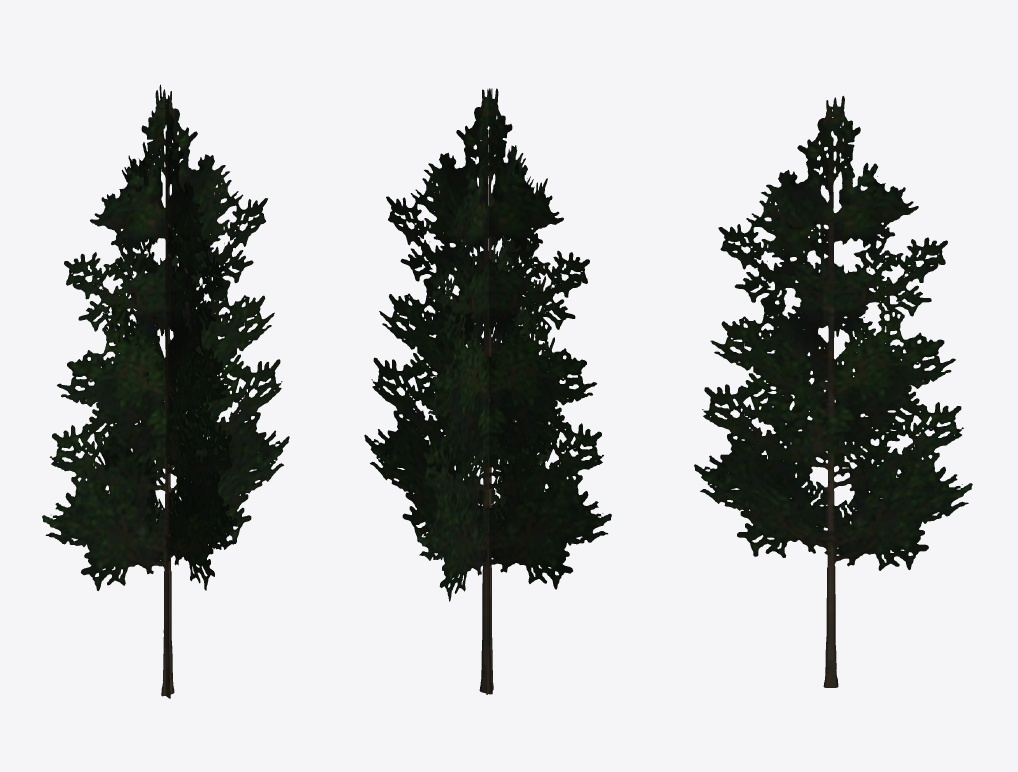
Rendered from ever_endr_babyredwood_a1_l2.fbx.
3 renders of one model, left to right at view 1: azimuth 30°, elevation 25°; view 2: azimuth 150°, elevation 25°; view 3: azimuth 270°, elevation 25°, orthographic. The views are drawn at different scales.
Parts seen in each view (by area): view 1: mesh_node; view 2: mesh_node; view 3: mesh_node.
Part boxes in pixels (x1,y1,x2,y2): mesh_node: (42,84,289,698); mesh_node: (364,88,611,694); mesh_node: (694,96,972,687).
Bounding box in the file's own units: 11.36 × 22.49 × 11.36.
